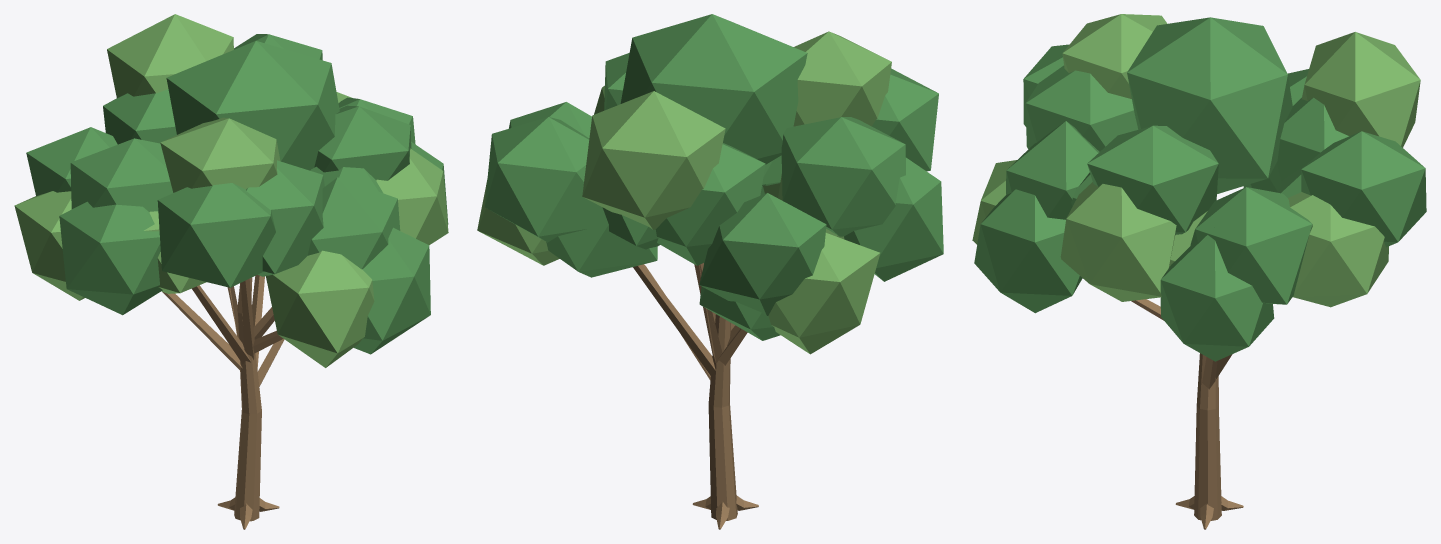
The model's file is oak_01.glb.
3 views of the same model, side by side, from view 1: azimuth 30°, elevation 25°; view 2: azimuth 150°, elevation 25°; view 3: azimuth 270°, elevation 25° (orthographic). The views are drawn at different scales.
Parts seen in each view (by area): view 1: Oak_800_01; view 2: Oak_800_01; view 3: Oak_800_01.
Part boxes in pixels (left/top/right/bottom): Oak_800_01: left=14, top=14, right=448, bottom=529; Oak_800_01: left=477, top=14, right=943, bottom=529; Oak_800_01: left=972, top=14, right=1426, bottom=529.
Bounding box in the file's own units: 13.98 × 16.03 × 13.09.
